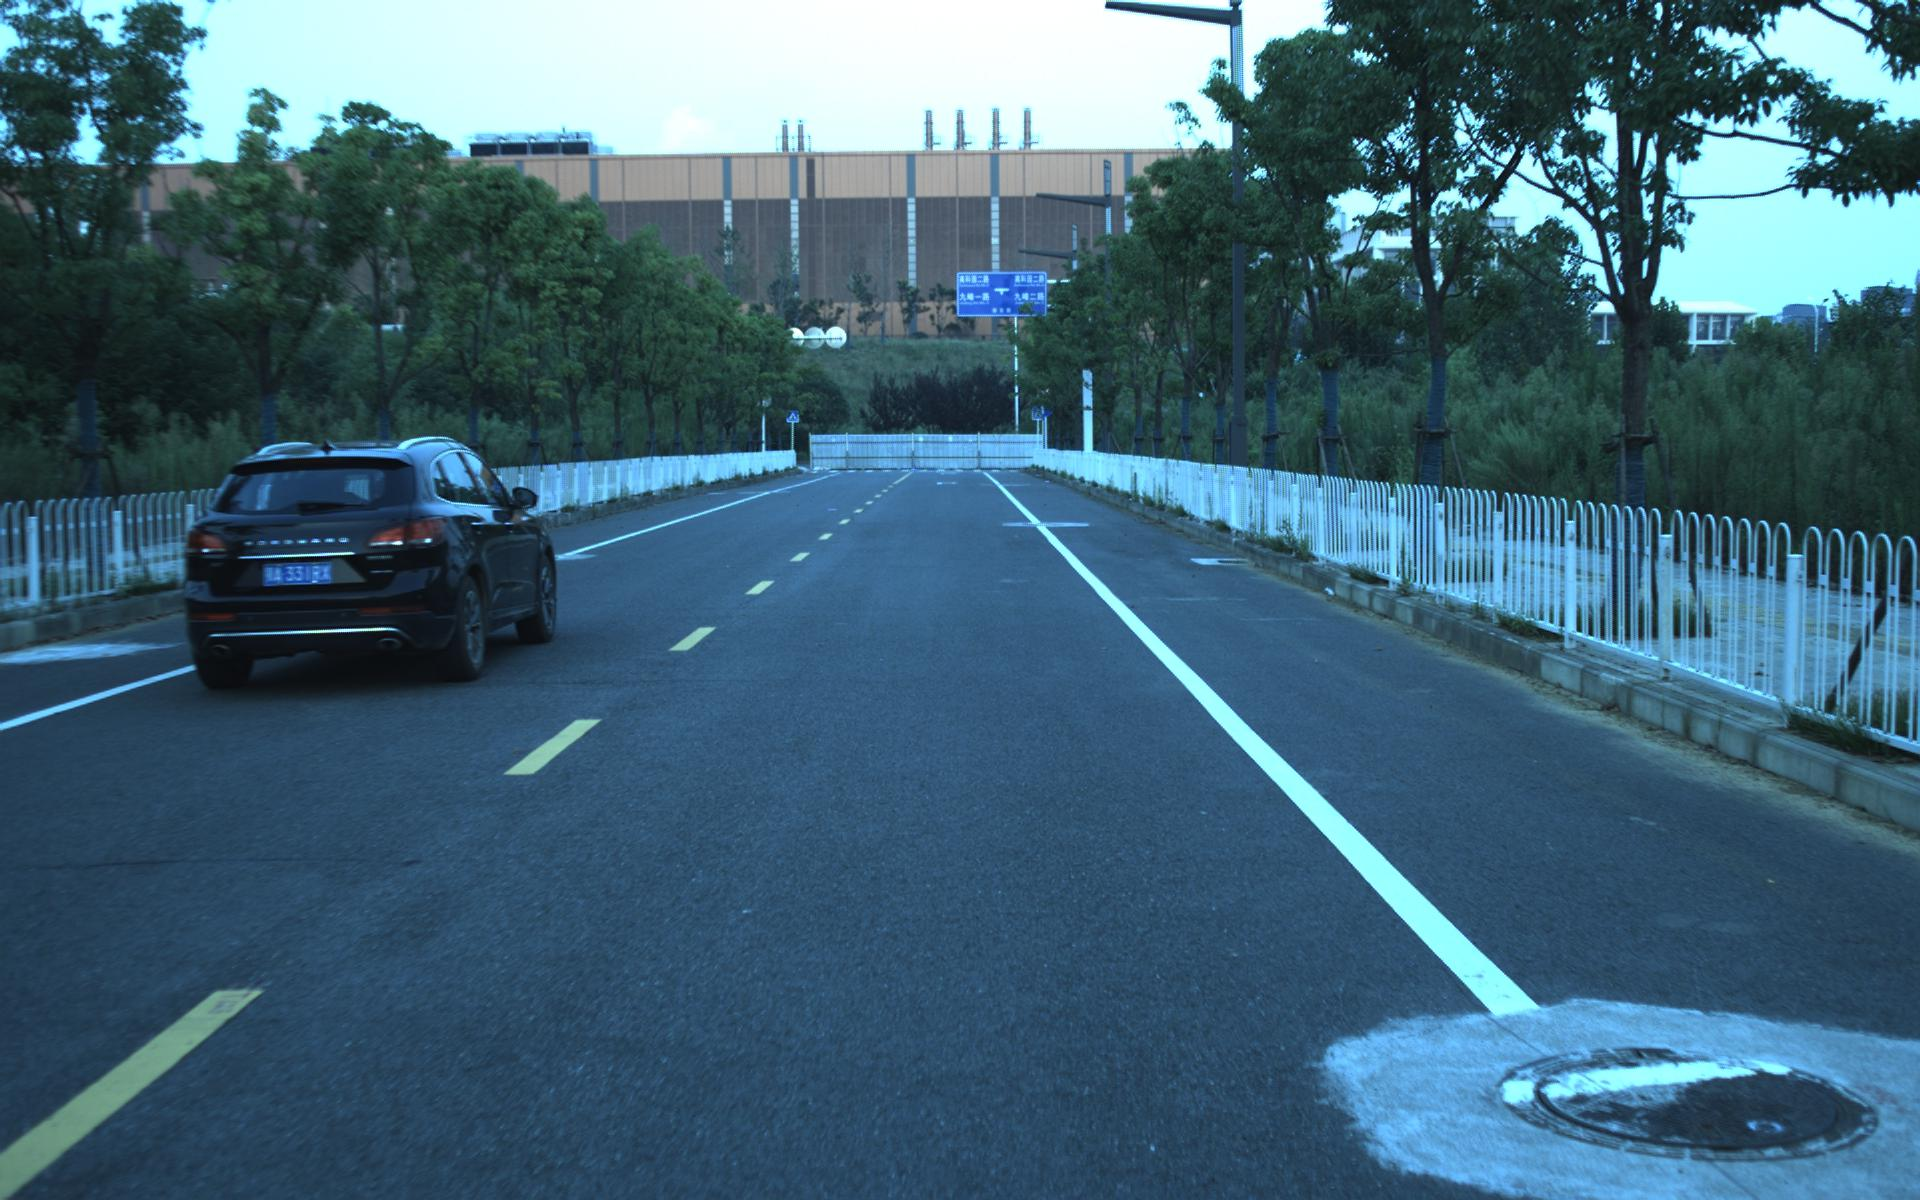Car: (163, 429, 563, 695)
